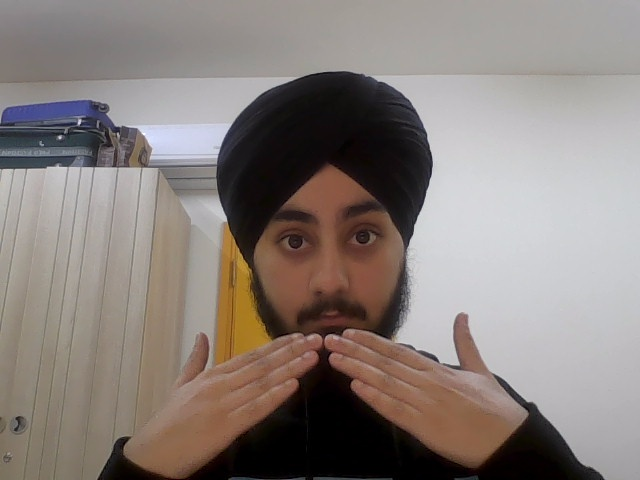Thanks: (128, 310, 537, 469)
